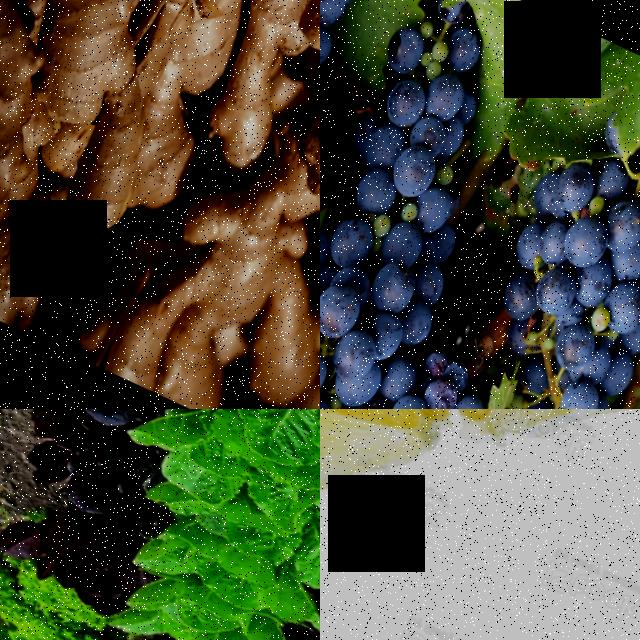ginger: (80, 126, 320, 409), (0, 23, 152, 329), (0, 0, 186, 90)
grapes: (320, 0, 597, 409), (449, 138, 640, 409), (320, 0, 424, 334)
lemon: (320, 409, 640, 640)
lettuce: (125, 486, 320, 638), (143, 409, 320, 548), (121, 562, 281, 640), (0, 554, 129, 640), (179, 409, 320, 476)
